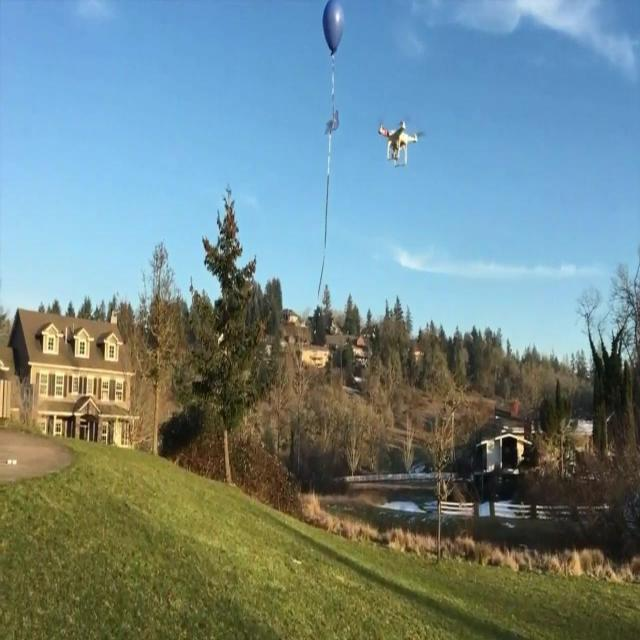UAV: (378, 121, 424, 168)
